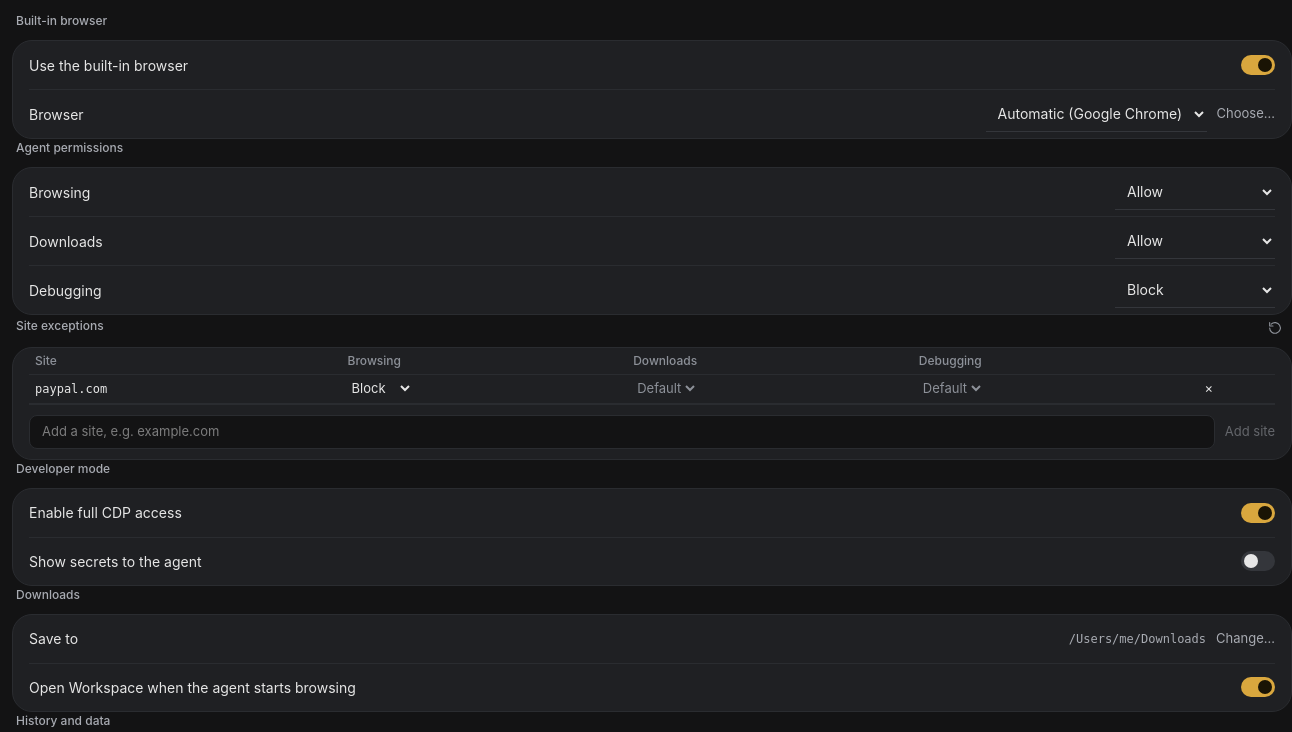
Test: Settings › Browser › reloads instead of overwriting when runtime.jsonc changed meanwhile
This screenshot has width=1292, height=732.
Step 1. Select "Ask" in the dropdown labelled "Browsing" → (1195, 192), box [1115,174,1275,210]
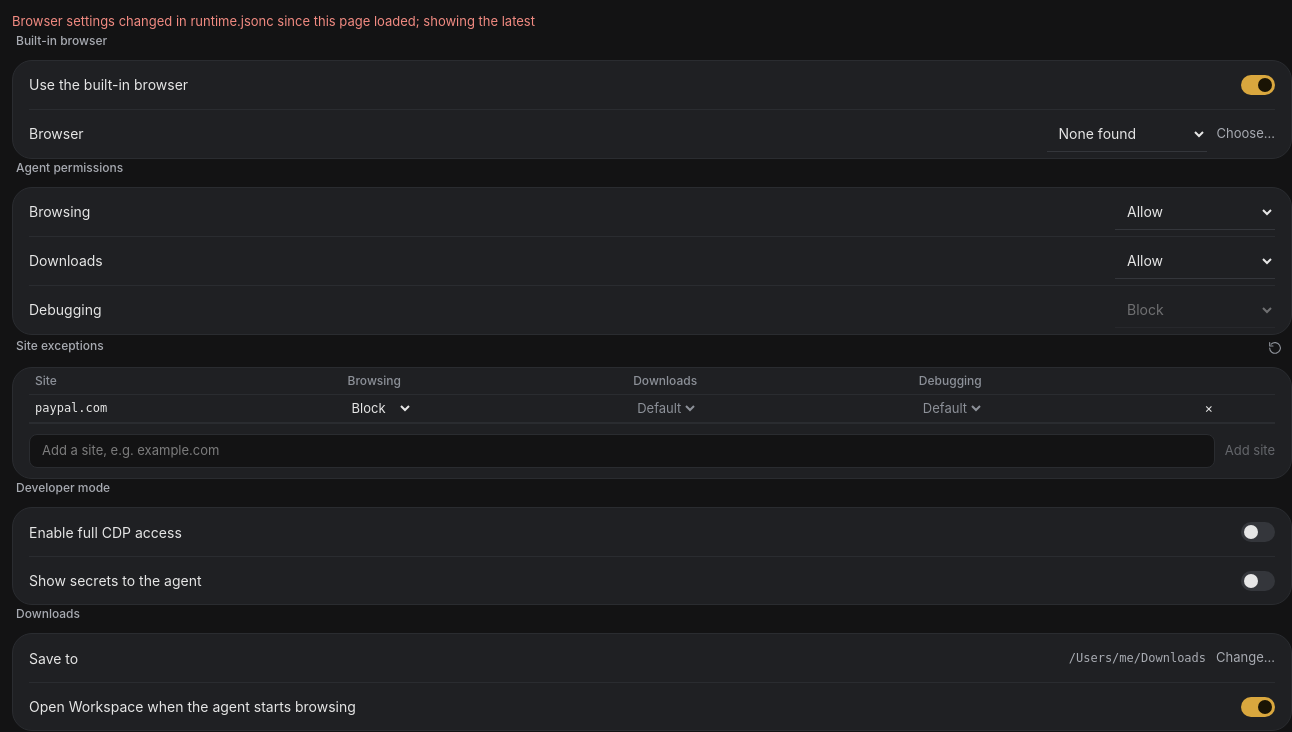
Expected: the message shows "changed in runtime.jsonc", [12,13,535,29]
Expected: the checkbox labelled "Enable full CDP access" is not checked, [1241,522,1275,542]
